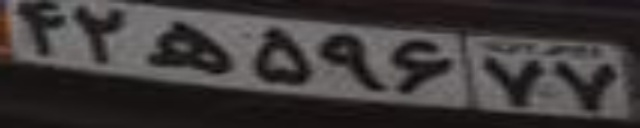2: (71, 3, 128, 64)
4: (14, 1, 62, 57)
5: (247, 27, 312, 83)
6: (390, 41, 451, 94)
7: (482, 53, 546, 108), (553, 56, 618, 110)
9: (319, 33, 384, 92)
he: (141, 20, 233, 74)
